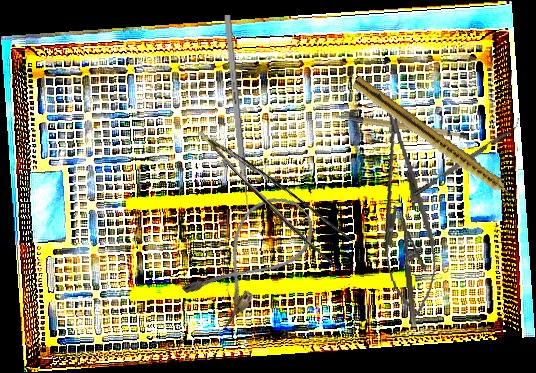Cannula: (177, 182, 326, 333)
Chopper: (409, 117, 525, 197)
Handpiece: (349, 75, 524, 209)
Needle Holder: (367, 101, 444, 320), (400, 214, 431, 327)
Pusher: (223, 14, 253, 223)
Scalpel Handle: (333, 92, 470, 157)
Tissue Forceps: (197, 108, 358, 272)
